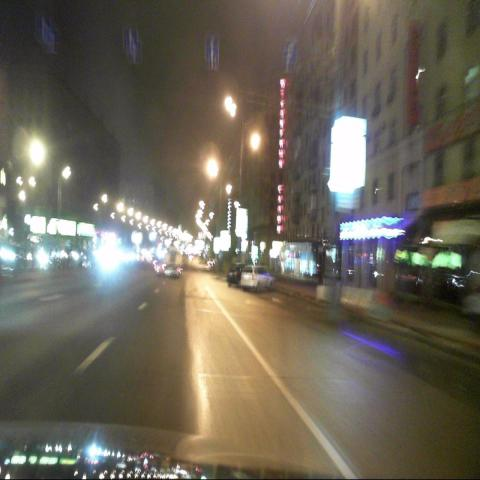5_15_2: (35, 16, 49, 42)
